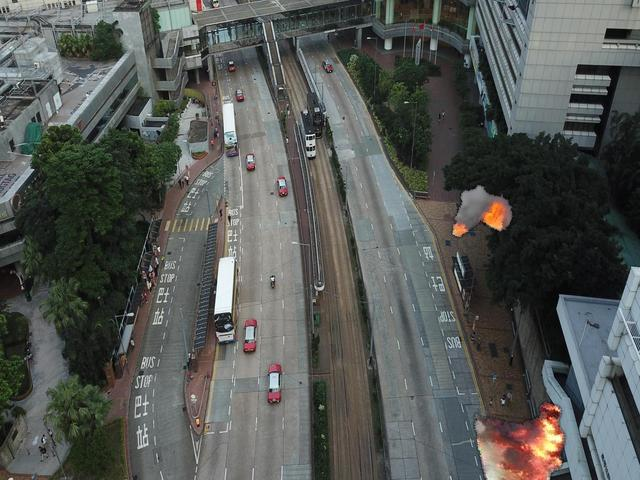fire: (472, 401, 568, 480), (449, 184, 514, 237)
